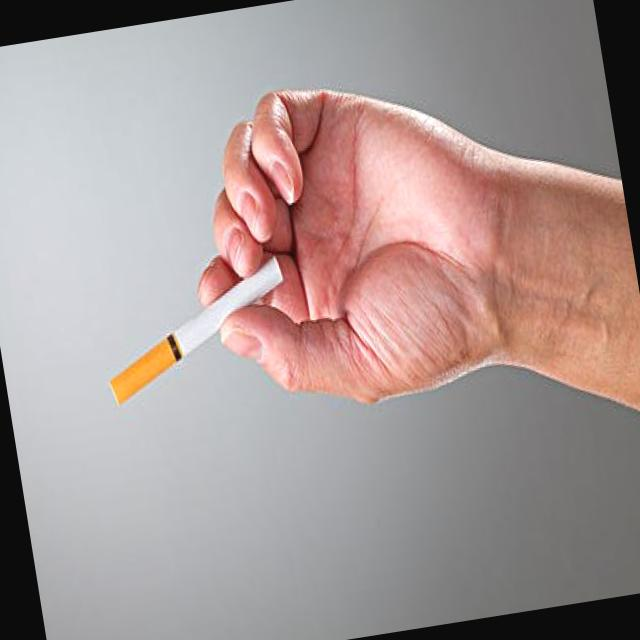smoke: (88, 246, 304, 416)
